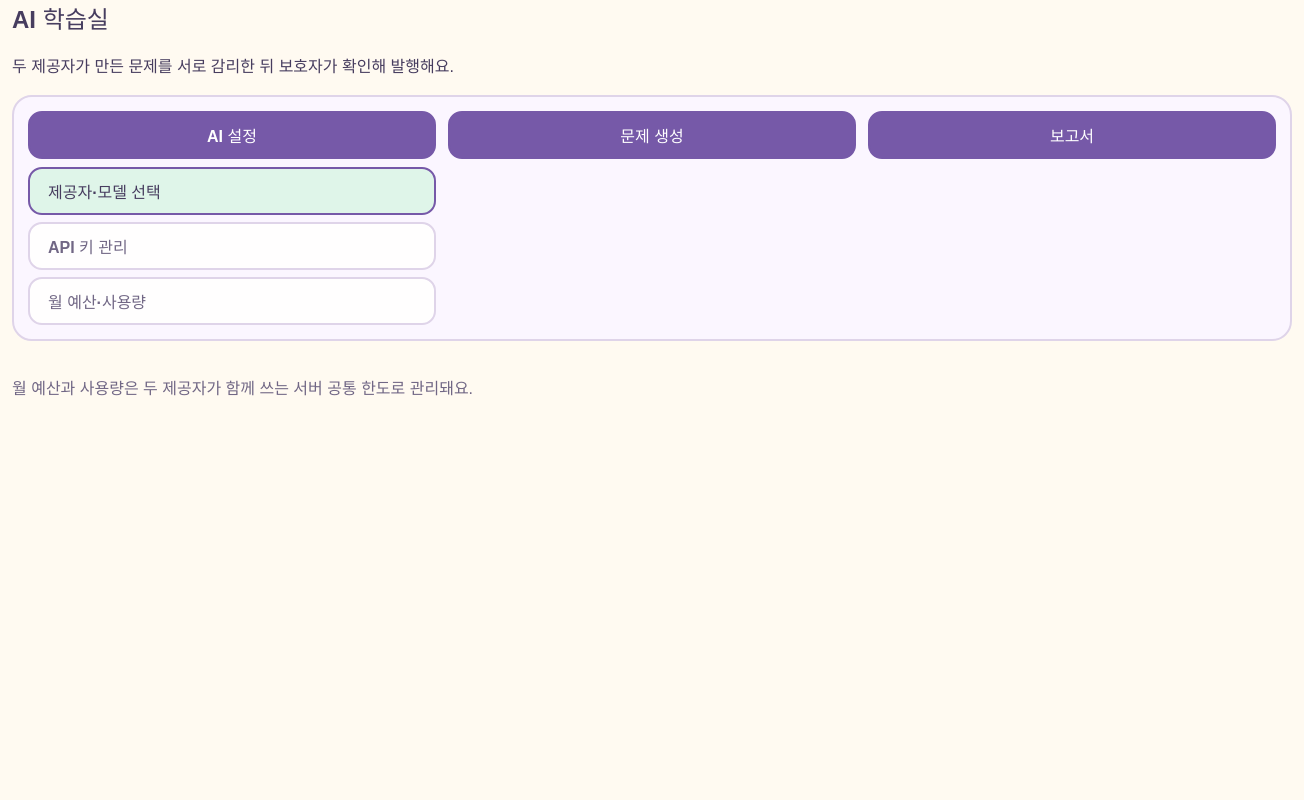
AiLearningStudio › uses caller-provided tree state when persistence props are supplied
The width and height of the screenshot is (1304, 800).
Click the button "문제 생성" at (652, 135), box [448, 111, 856, 159]
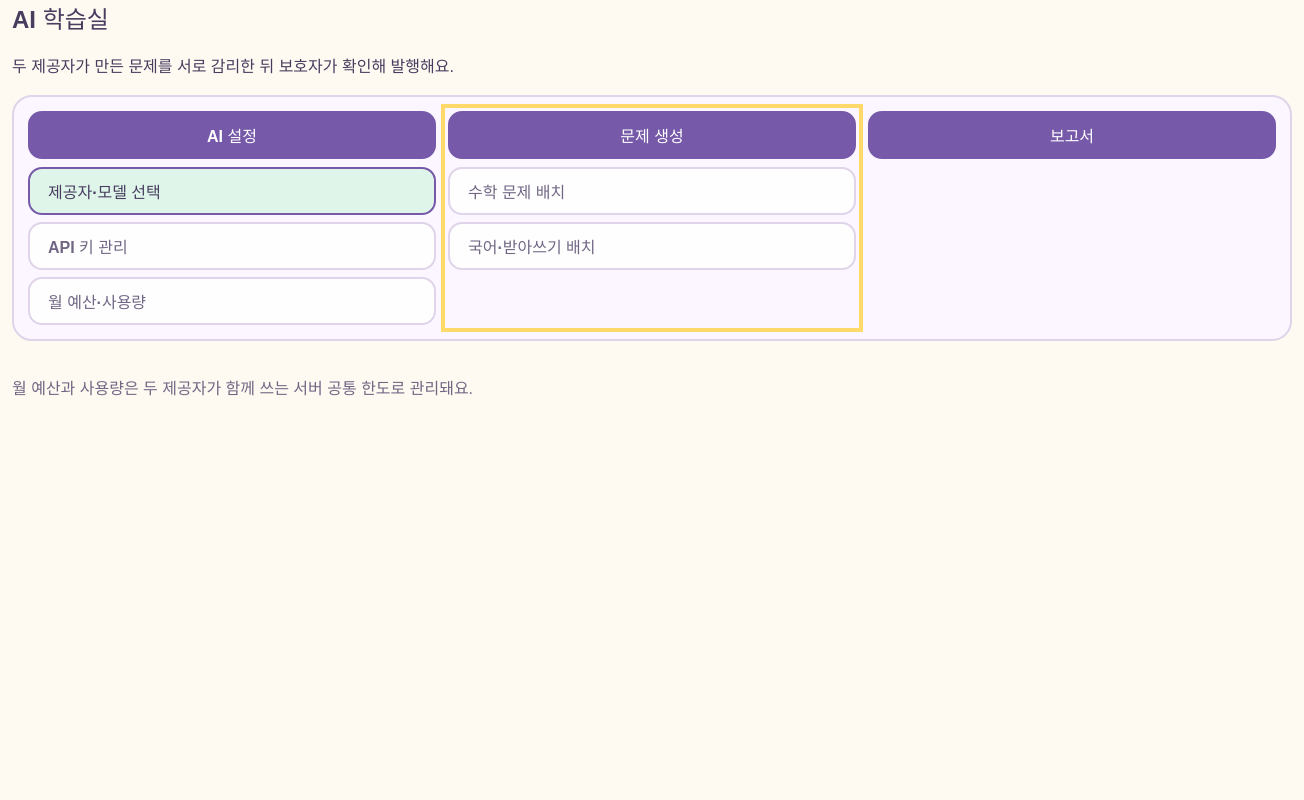
Click the list item "수학 문제 배치" at (517, 192), box [448, 167, 856, 215]
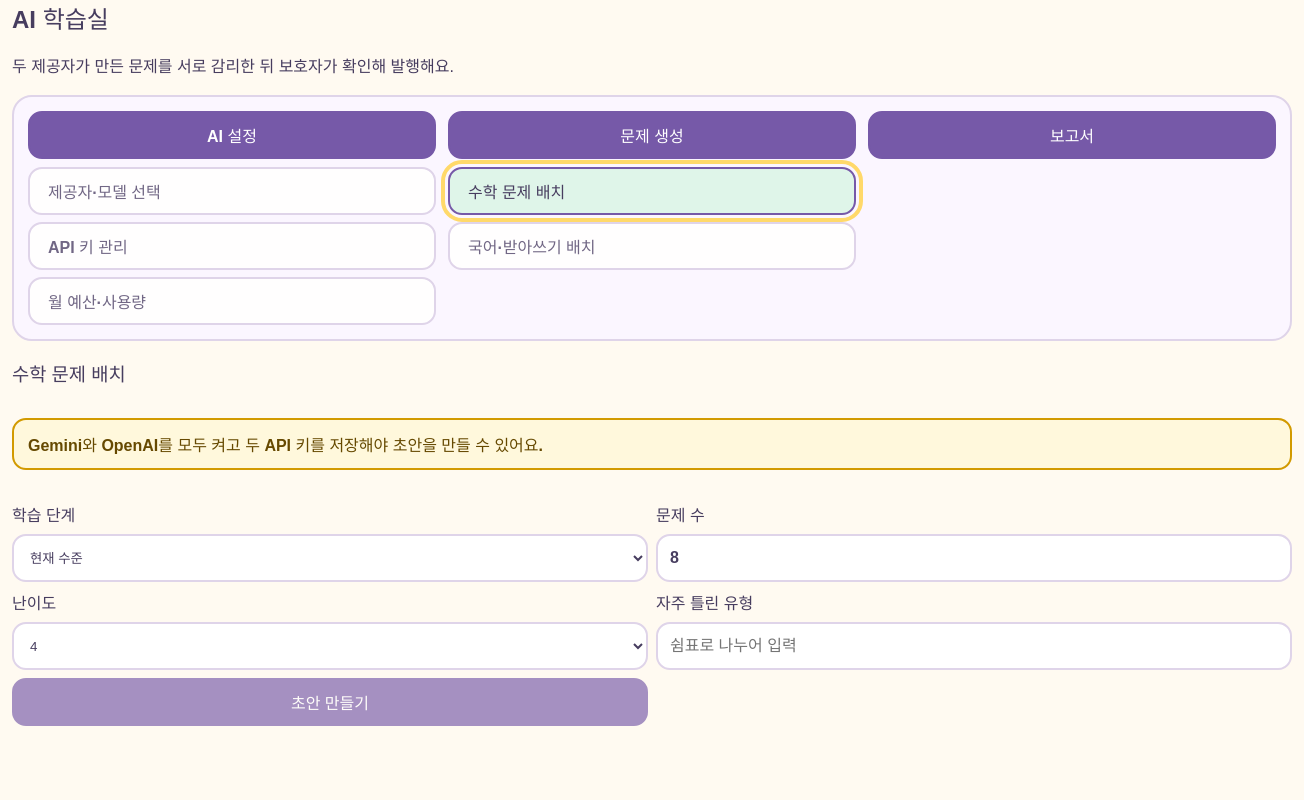
Now the heading "수학 문제 배치" is shown, box [12, 364, 126, 385]
